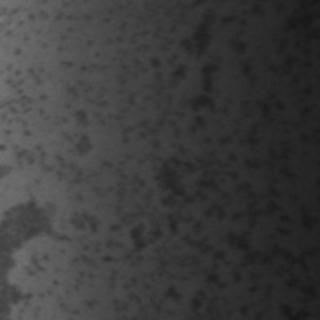pitted_surface: (1, 2, 308, 294), (0, 192, 66, 310)
